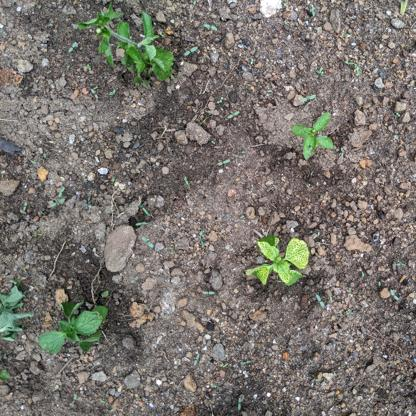weed: (77, 6, 179, 83), (40, 297, 112, 356), (244, 233, 315, 289), (291, 111, 338, 162), (2, 277, 38, 342)
